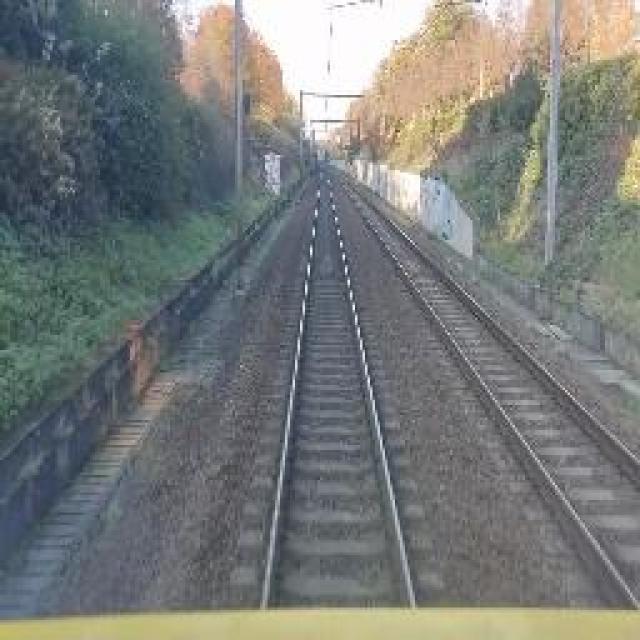rail: (222, 165, 443, 613)
